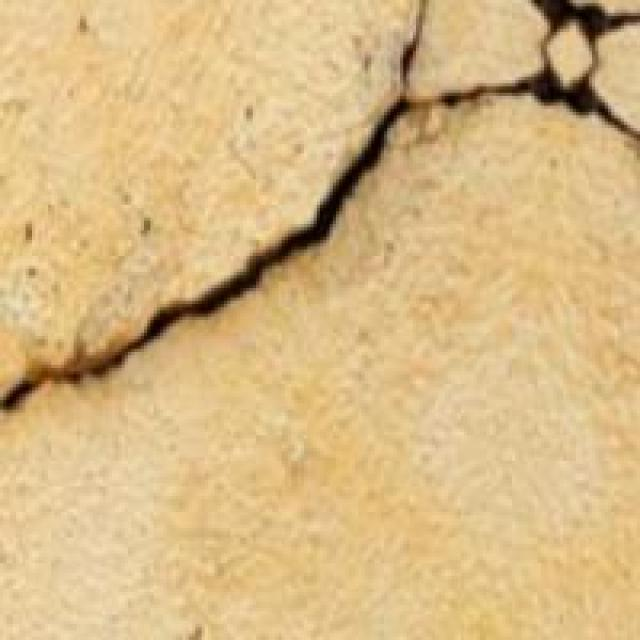Crack: (0, 0, 637, 464)
